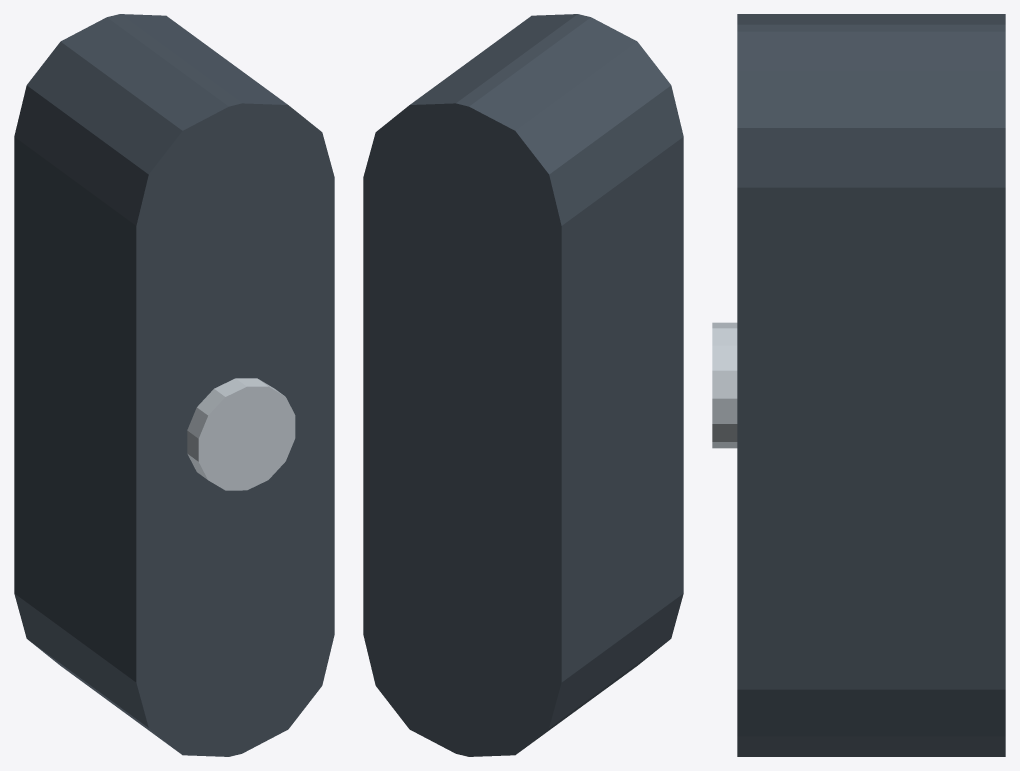
The model's file is Edge_Shutter.gltf.
3 renders of one model, left to right at view 1: azimuth 30°, elevation 25°; view 2: azimuth 150°, elevation 25°; view 3: azimuth 270°, elevation 25°, orthographic. The views are drawn at different scales.
Visible parts, largest first — view 1: Edge_Shutter_baked; view 2: Edge_Shutter_baked; view 3: Edge_Shutter_baked.
Boxes of the visible parts, x1,y1,x2,y2 form: Edge_Shutter_baked: [14, 14, 334, 756]; Edge_Shutter_baked: [363, 14, 683, 756]; Edge_Shutter_baked: [712, 14, 1005, 756].
Bounding box in the file's own units: 0.3 × 0.94 × 0.35.
